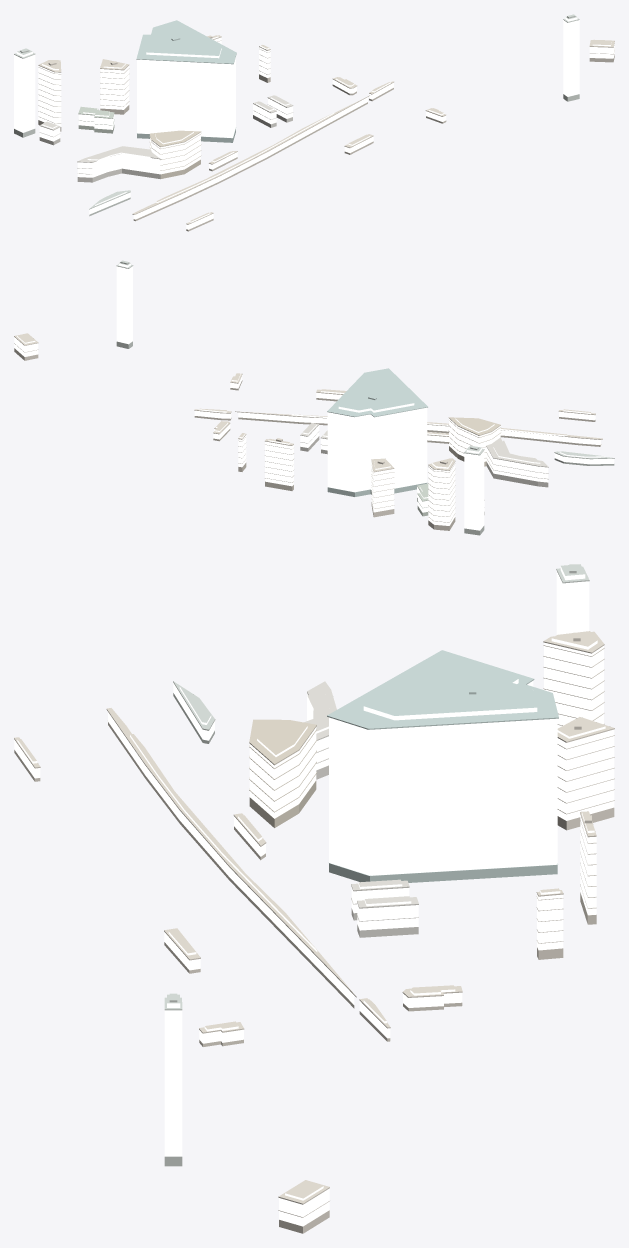
The model's file is buildings--4_-2-fine.glb.
The picture shows the model from 3 angles, top to bottom: view 1: azimuth 30°, elevation 25°; view 2: azimuth 150°, elevation 25°; view 3: azimuth 270°, elevation 25°; orthographic projection. The views are drawn at different scales.
Parts seen in each view (by area): view 1: block_-4_-2_office, block_-4_-2_residential, block_-4_-2_roof, block_-4_-2_darkglass, block_-4_-2_concrete; view 2: block_-4_-2_office, block_-4_-2_residential, block_-4_-2_roof, block_-4_-2_darkglass, block_-4_-2_concrete; view 3: block_-4_-2_office, block_-4_-2_residential, block_-4_-2_roof, block_-4_-2_darkglass, block_-4_-2_concrete.
Part boxes in pixels (x1,y1,x2,y2): block_-4_-2_office: (14, 17, 579, 214); block_-4_-2_residential: (38, 36, 614, 229); block_-4_-2_roof: (14, 14, 614, 224); block_-4_-2_darkglass: (14, 54, 614, 231); block_-4_-2_concrete: (38, 36, 614, 224); block_-4_-2_office: (116, 263, 614, 530); block_-4_-2_residential: (14, 336, 600, 525); block_-4_-2_roof: (14, 260, 614, 525); block_-4_-2_darkglass: (14, 341, 614, 535); block_-4_-2_concrete: (14, 336, 602, 522); block_-4_-2_office: (164, 566, 589, 1156); block_-4_-2_residential: (14, 638, 614, 1226); block_-4_-2_roof: (14, 564, 614, 1217); block_-4_-2_darkglass: (14, 693, 614, 1233); block_-4_-2_concrete: (14, 641, 614, 1217).
Bounding box in the file's own units: 427 × 60.45 × 201.
